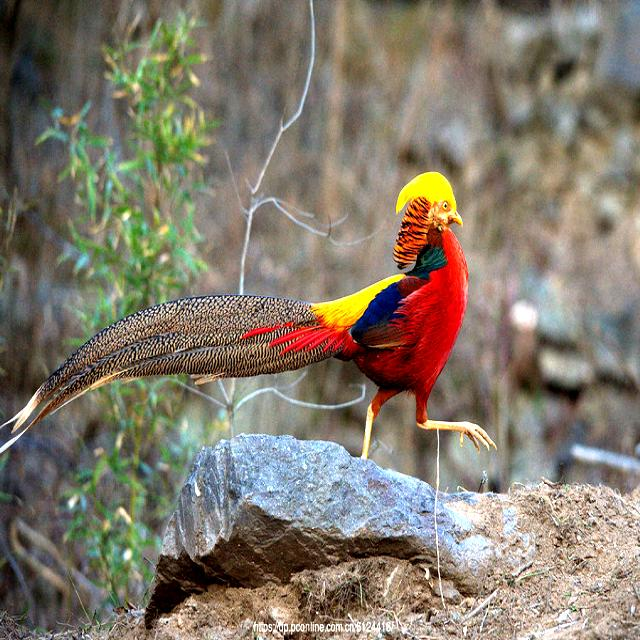Chrysolophus pictus feather: (0, 295, 334, 452)
